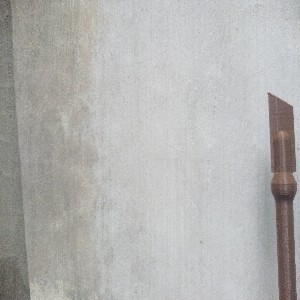cutter: (267, 91, 298, 300)
